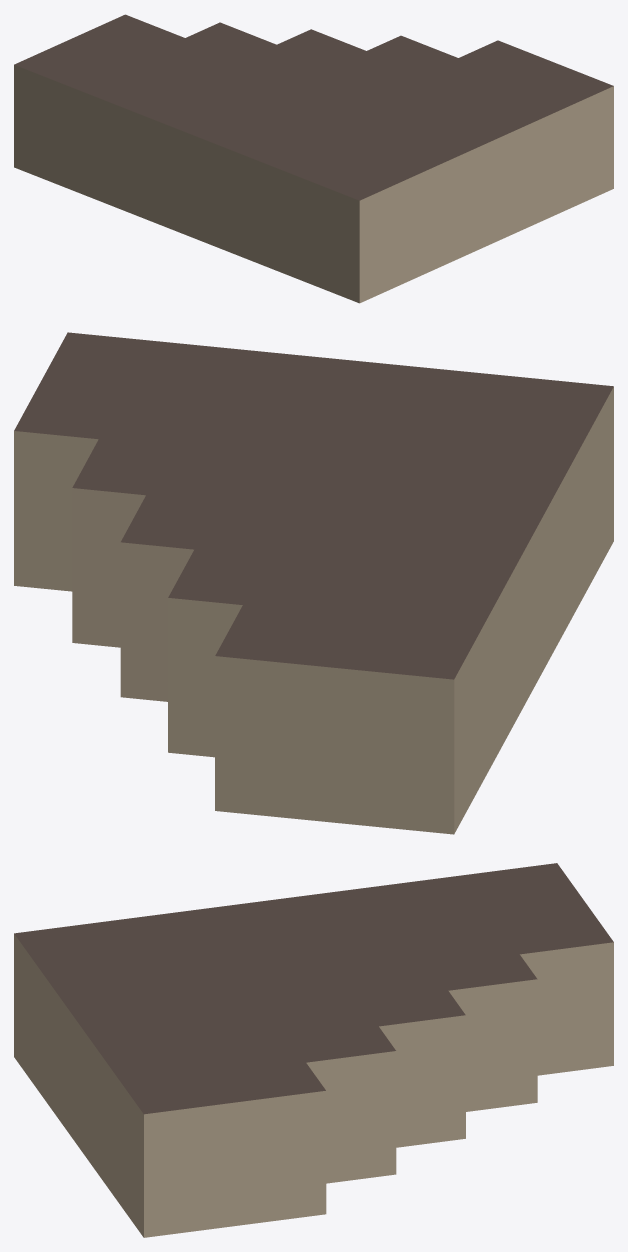
3 views of the same model, one above another, from view 1: azimuth 30°, elevation 25°; view 2: azimuth 150°, elevation 25°; view 3: azimuth 270°, elevation 25° (orthographic). The views are drawn at different scales.
Visible parts, largest first — view 1: HP-w859457480; view 2: HP-w859457480; view 3: HP-w859457480.
Boxes of the visible parts, bbox=[...] form: HP-w859457480: bbox=[14, 14, 613, 303]; HP-w859457480: bbox=[14, 332, 613, 834]; HP-w859457480: bbox=[14, 863, 613, 1237].
Bounding box in the file's own units: 39.25 × 9 × 39.6.
